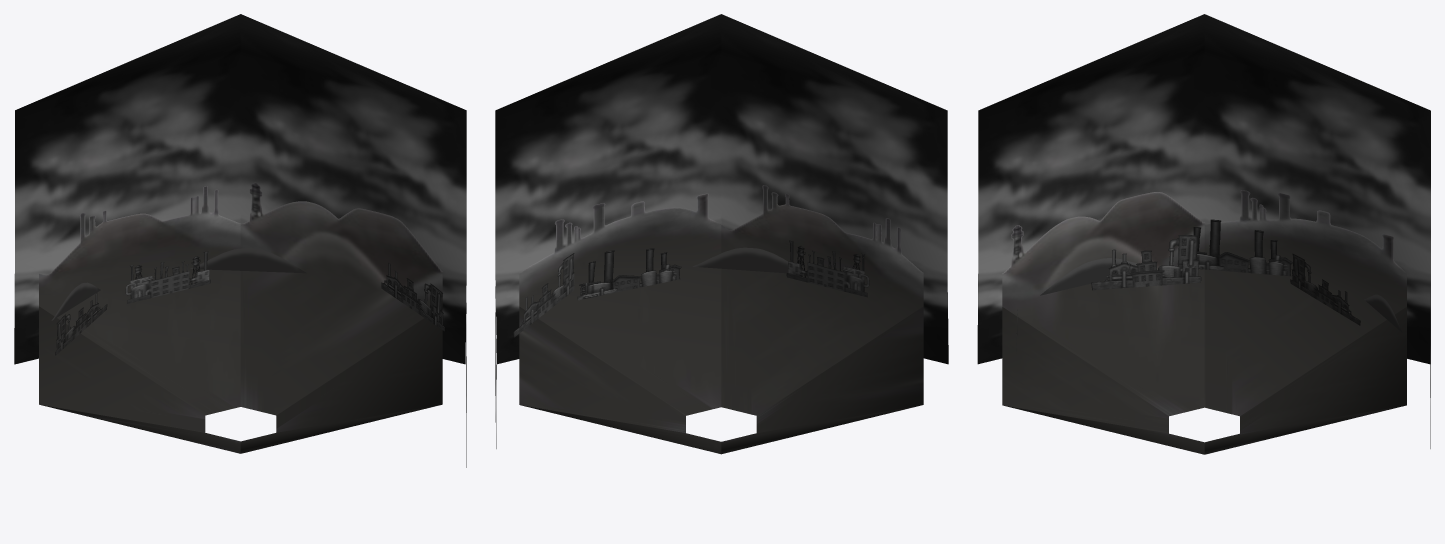
Rendered from cog_sky.glb.
3 renders of one model, left to right at view 1: azimuth 30°, elevation 25°; view 2: azimuth 150°, elevation 25°; view 3: azimuth 270°, elevation 25°, orthographic.
Visible parts, largest first — view 1: sky, hills4, hills3, hills5, hills2, Buildings2, Hill3, hills6, hills1, Buildings7, Buildings5, Hill1; view 2: sky, hills5, hills6, hills1, hills4, Buildings4, Buildings3, hills3, hills2, Hill4, Buildings7; view 3: sky, hills1, hills2, hills6, hills3, Buildings1, Buildings6, hills4, hills5, Buildings5, Hill2.
Part boxes in pixels (left/top/right/bottom): sky: left=14, top=14, right=466, bottom=467; hills4: left=240, top=182, right=442, bottom=415; hills3: left=39, top=186, right=240, bottom=415; hills5: left=276, top=306, right=442, bottom=432; hills2: left=39, top=306, right=205, bottom=432; Buildings2: left=125, top=251, right=210, bottom=303; Hill3: left=190, top=248, right=306, bottom=273; hills6: left=240, top=405, right=440, bottom=453; hills1: left=41, top=405, right=240, bottom=453; Buildings7: left=381, top=263, right=444, bottom=331; Buildings5: left=55, top=293, right=107, bottom=355; Hill1: left=51, top=282, right=100, bottom=320; sky: left=495, top=14, right=948, bottom=448; hills5: left=519, top=193, right=721, bottom=415; hills6: left=721, top=185, right=923, bottom=415; hills1: left=756, top=306, right=923, bottom=432; hills4: left=519, top=306, right=685, bottom=432; Buildings4: left=786, top=240, right=869, bottom=297; Buildings3: left=577, top=248, right=681, bottom=300; hills3: left=521, top=405, right=721, bottom=453; hills2: left=721, top=405, right=920, bottom=454; Hill4: left=692, top=247, right=804, bottom=274; Buildings7: left=513, top=253, right=574, bottom=337; sky: left=977, top=14, right=1430, bottom=448; hills1: left=1002, top=192, right=1204, bottom=416; hills2: left=1204, top=190, right=1406, bottom=416; hills6: left=1002, top=307, right=1168, bottom=433; hills3: left=1240, top=307, right=1406, bottom=433; Buildings1: left=1091, top=235, right=1201, bottom=290; Buildings6: left=1193, top=219, right=1292, bottom=276; hills4: left=1204, top=406, right=1403, bottom=454; hills5: left=1004, top=405, right=1204, bottom=454; Buildings5: left=1290, top=253, right=1360, bottom=325; Hill2: left=1040, top=258, right=1137, bottom=295.
Bounding box in the file's own units: 699 × 605 × 606.
Materials: 7 (7 with a texture image).
